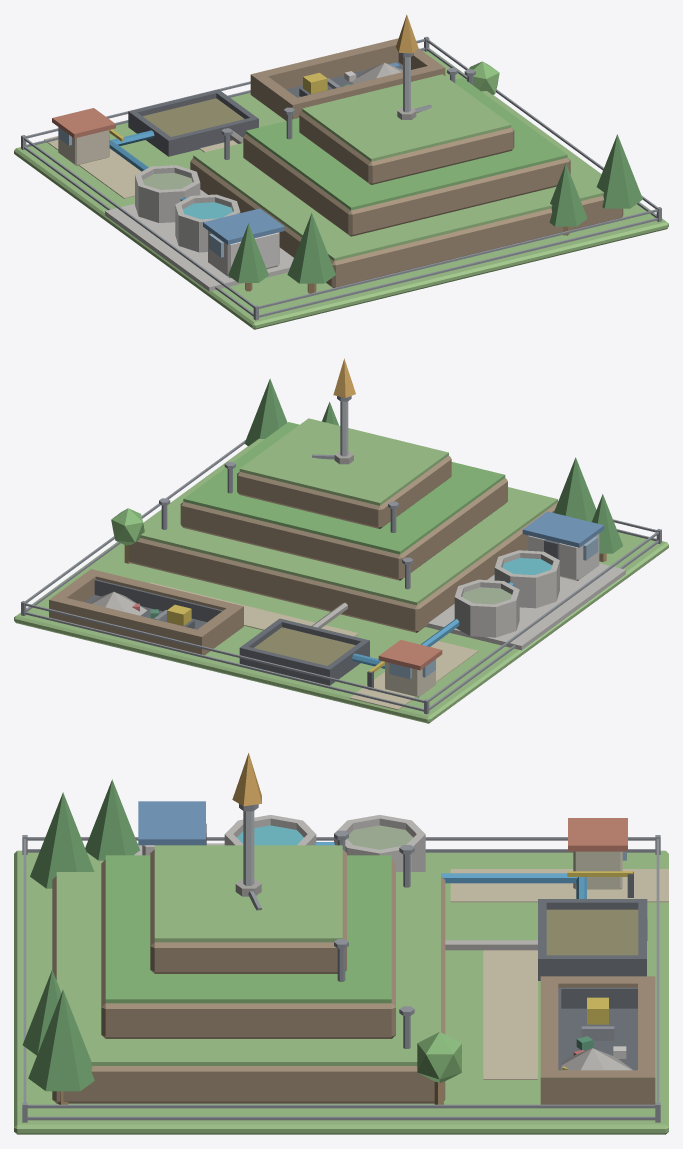
File: residuos__aterro_sanitario.glb
3 views of the same model, one above another, from view 1: azimuth 30°, elevation 25°; view 2: azimuth 150°, elevation 25°; view 3: azimuth 270°, elevation 25° (orthographic). The views are drawn at different scales.
Parts seen in each view (by area): view 1: residuos__aterro_sanitario; view 2: residuos__aterro_sanitario; view 3: residuos__aterro_sanitario.
Part boxes in pixels (left/top/right/bottom): residuos__aterro_sanitario: left=14, top=14, right=668, bottom=329; residuos__aterro_sanitario: left=14, top=358, right=668, bottom=723; residuos__aterro_sanitario: left=14, top=753, right=668, bottom=1134.
Size of the model in its own units: 6 by 2.69 by 6.
